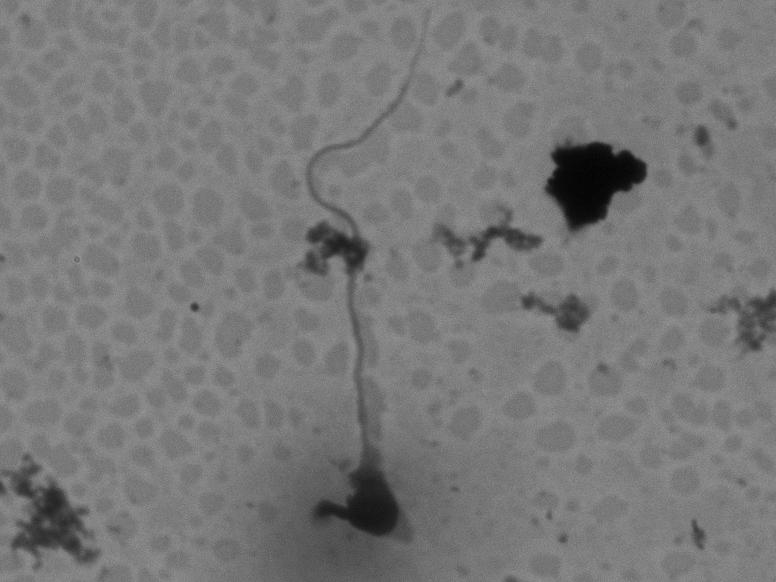Abnormal: (271, 6, 498, 538)
